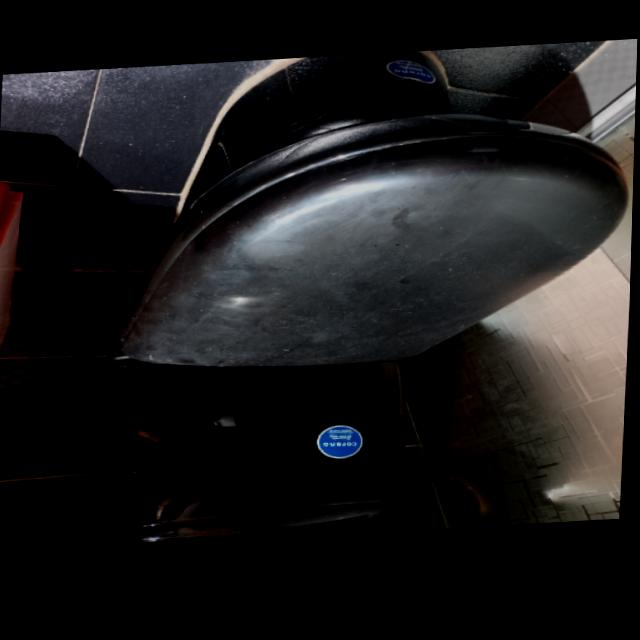toilet: (92, 40, 637, 560)
